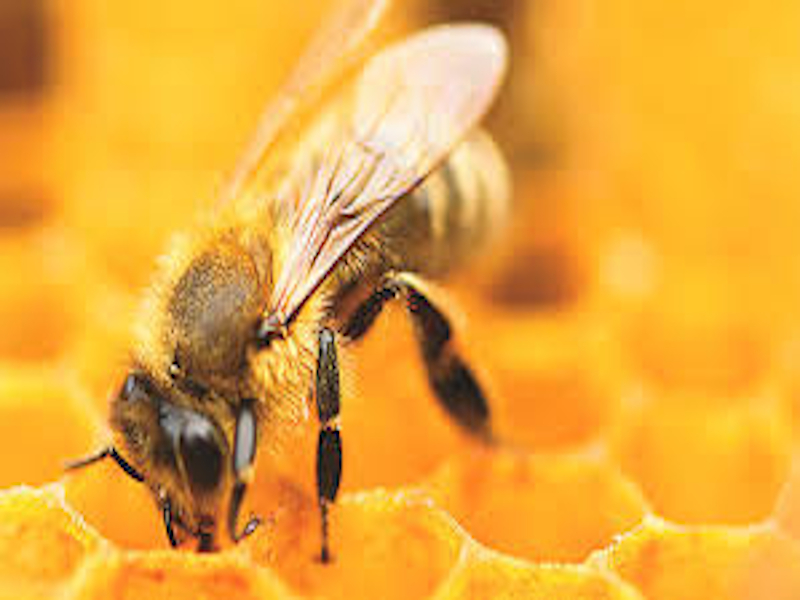abeja: (43, 8, 530, 580)
